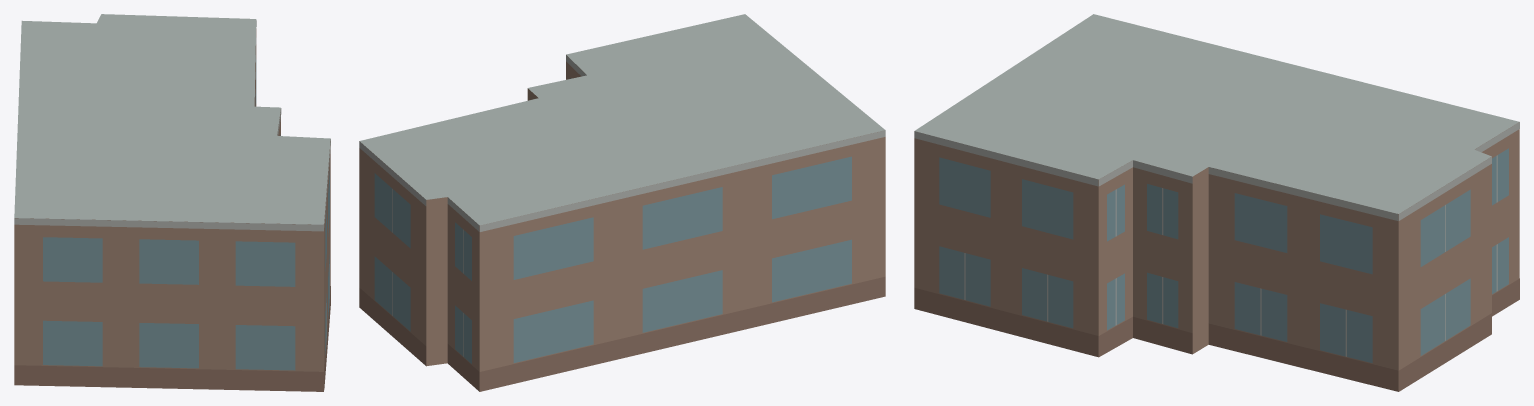
The model's file is survey-upis-32489448.glb.
3 renders of one model, left to right at view 1: azimuth 30°, elevation 25°; view 2: azimuth 150°, elevation 25°; view 3: azimuth 270°, elevation 25°, orthographic. The views are drawn at different scales.
Visible parts, largest first — view 1: survey-upis-32489448.tmp; view 2: survey-upis-32489448.tmp; view 3: survey-upis-32489448.tmp.
Boxes of the visible parts, bbox=[...] form: survey-upis-32489448.tmp: bbox=[14, 14, 330, 391]; survey-upis-32489448.tmp: bbox=[359, 14, 885, 391]; survey-upis-32489448.tmp: bbox=[914, 14, 1519, 391].
Bounding box in the file's own units: 14.73 × 6.1 × 18.84.
